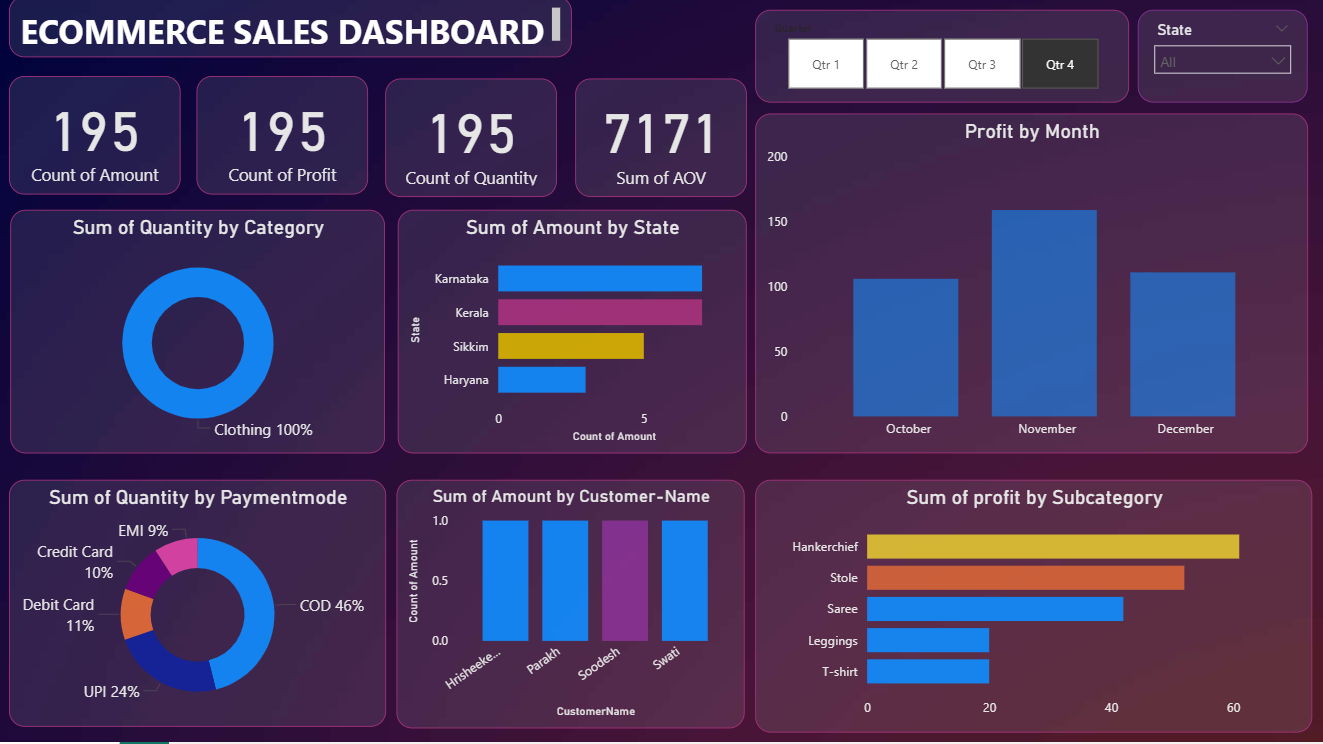

What the dashboard file says about the page in this screenshot:
{"tool":"powerbi","page":{"name":"Ecommerce Sales","canvas":[1280,720],"ordinal":0},"visuals":[{"type":"textbox","box":[9.7,0,542.9,59.1],"z":0},{"type":"columnChart","title":"Profit by Month","fields":{"Category":["Orders.Order Date.Variation.Date Hierarchy.Month"],"Y":["CountNonNull(Details.Profit)"]},"box":[729.9,113.4,533.2,328.2],"z":1000},{"type":"donutChart","title":"Sum of Quantity by Category","fields":{"Category":["Details.Category"],"Y":["CountNonNull(Details.Quantity)"]},"box":[10.9,206.3,361.9,235.3],"z":2000},{"type":"clusteredBarChart","title":"Sum of profit by Subcategory","fields":{"Y":["CountNonNull(Details.Profit)"],"Category":["Details.Sub-Category"]},"box":[730,466.6,537.9,244.3],"z":3000},{"type":"donutChart","title":"Sum of Quantity by Paymentmode","fields":{"Y":["CountNonNull(Details.Quantity)"],"Category":["Details.PaymentMode"]},"box":[9.6,466.6,363.6,238.8],"z":4000},{"type":"card","title":"Sum of profit by Subcategory","fields":{"Values":["CountNonNull(Details.Amount)"]},"box":[9.7,77.2,165.3,114.6],"z":5000},{"type":"card","title":"Sum of profit by Subcategory","fields":{"Values":["CountNonNull(Details.Profit)"]},"box":[190.6,77.2,165.3,114.6],"z":6000},{"type":"card","title":"Sum of profit by Subcategory","fields":{"Values":["CountNonNull(Details.Quantity)"]},"box":[372.8,79.6,165.3,114.6],"z":7000},{"type":"card","title":"Sum of profit by Subcategory","fields":{"Values":["Sum(Details.AOV)"]},"box":[556.2,79.6,165.3,114.6],"z":8000},{"type":"clusteredBarChart","title":"Sum of Amount by State","fields":{"Y":["CountNonNull(Details.Amount)"],"Category":["Orders.State"]},"box":[384.9,206.3,336.6,235.3],"z":9000},{"type":"columnChart","title":"Sum of Amount by Customer-Name","fields":{"Category":["Orders.CustomerName"],"Y":["CountNonNull(Details.Amount)"]},"box":[384.2,466.6,336.2,240.1],"z":10000},{"type":"slicer","fields":{"Values":["Orders.Order Date.Variation.Date Hierarchy.Quarter"]},"box":[729.9,13.3,360.7,89.3],"z":11000},{"type":"slicer","fields":{"Values":["Orders.State"]},"box":[1099.1,13.3,164.1,89.3],"z":12000}]}

Visuals, with their boxes in screenshot pixels (x1, y1, x2, y2), scaled from the page's 1280x720 canvas onto the 1323x744 screenshot:
textbox: 10, 0, 571, 61
"Profit by Month" columnChart: 754, 117, 1306, 456
"Sum of Quantity by Category" donutChart: 11, 213, 385, 456
"Sum of profit by Subcategory" clusteredBarChart: 755, 482, 1310, 735
"Sum of Quantity by Paymentmode" donutChart: 10, 482, 386, 729
"Sum of profit by Subcategory" card: 10, 80, 181, 198
"Sum of profit by Subcategory" card: 197, 80, 368, 198
"Sum of profit by Subcategory" card: 385, 82, 556, 201
"Sum of profit by Subcategory" card: 575, 82, 746, 201
"Sum of Amount by State" clusteredBarChart: 398, 213, 746, 456
"Sum of Amount by Customer-Name" columnChart: 397, 482, 745, 730
slicer - Orders.Order Date.Variation.Date Hierarchy.Quarter: 754, 14, 1127, 106
slicer - Orders.State: 1136, 14, 1306, 106
